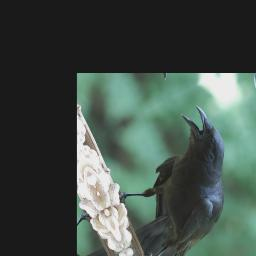Crow: (87, 100, 256, 256)
